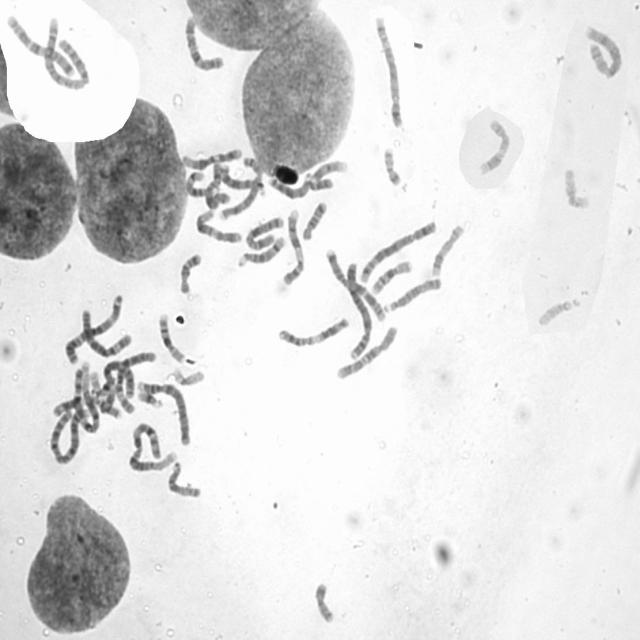A1: (126, 417, 179, 473), (69, 358, 102, 434)
A2: (40, 15, 92, 90), (46, 402, 89, 466)
A3: (61, 289, 126, 364), (100, 358, 139, 400)
B4: (134, 376, 192, 447), (341, 256, 374, 360)
B5: (356, 215, 438, 285), (372, 11, 406, 129)
C10: (333, 321, 400, 381), (182, 10, 226, 72)
C11: (274, 312, 352, 348), (55, 388, 125, 424)
C12: (191, 204, 244, 245), (178, 143, 244, 170)
C6: (111, 345, 157, 416), (78, 304, 133, 358)
C7: (322, 242, 388, 322), (4, 10, 79, 79)
C8: (216, 152, 263, 222), (582, 20, 624, 80)
C9: (280, 203, 306, 286), (308, 158, 350, 194)
D13: (216, 160, 268, 196), (266, 167, 314, 199)
D14: (234, 230, 288, 269), (184, 165, 227, 199)
D15: (382, 272, 444, 314), (164, 456, 204, 500)
E16: (367, 254, 415, 295), (154, 308, 188, 364)
E17: (428, 218, 467, 277), (475, 114, 512, 176)
E18: (298, 196, 329, 241), (176, 248, 204, 295)
F19: (560, 163, 592, 210), (170, 362, 207, 386)
F20: (310, 576, 336, 624), (379, 142, 404, 186)
G21: (89, 370, 114, 400), (134, 385, 165, 409)
G22: (534, 292, 582, 328), (98, 382, 120, 418)
X: (242, 212, 286, 250), (202, 162, 229, 213)
